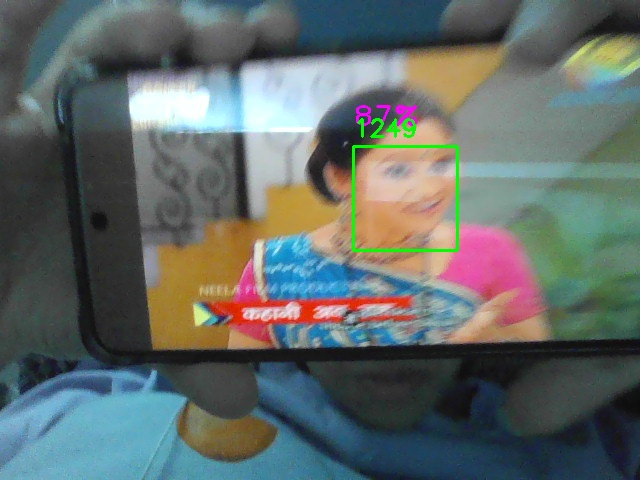fake: (353, 146, 458, 251)
